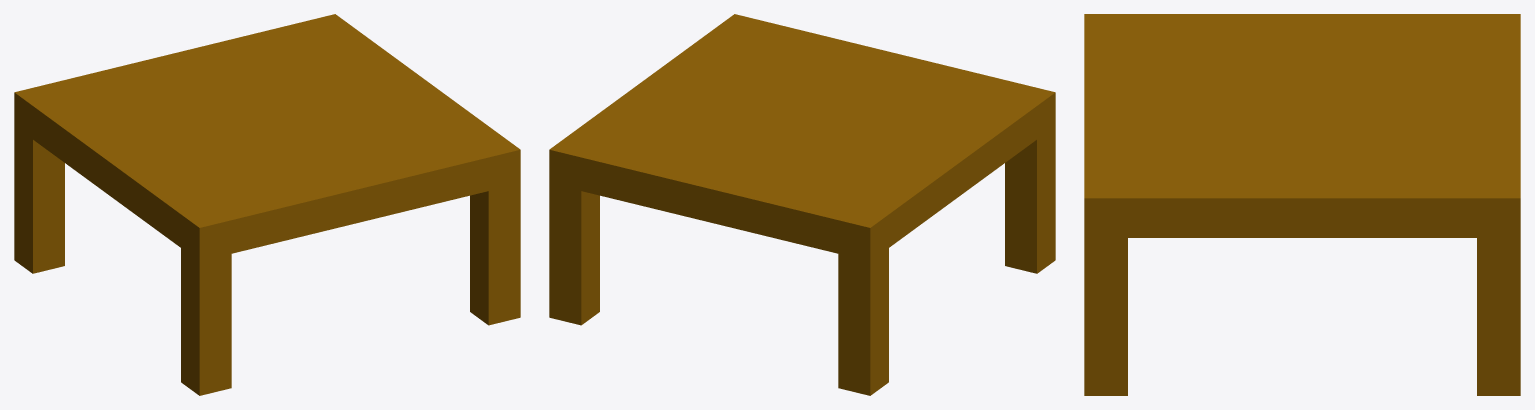
Rendered from table.gltf.
The picture shows the model from 3 angles, left to right: view 1: azimuth 30°, elevation 25°; view 2: azimuth 150°, elevation 25°; view 3: azimuth 270°, elevation 25°; orthographic projection. The views are drawn at different scales.
Visible parts, largest first — view 1: Table; view 2: Table; view 3: Table.
Boxes of the visible parts, box(x1,y1,x2,y2) form: Table: box(14, 14, 520, 395); Table: box(549, 14, 1055, 395); Table: box(1084, 14, 1520, 395).
Size of the model in its own units: 1 by 0.5 by 1.
